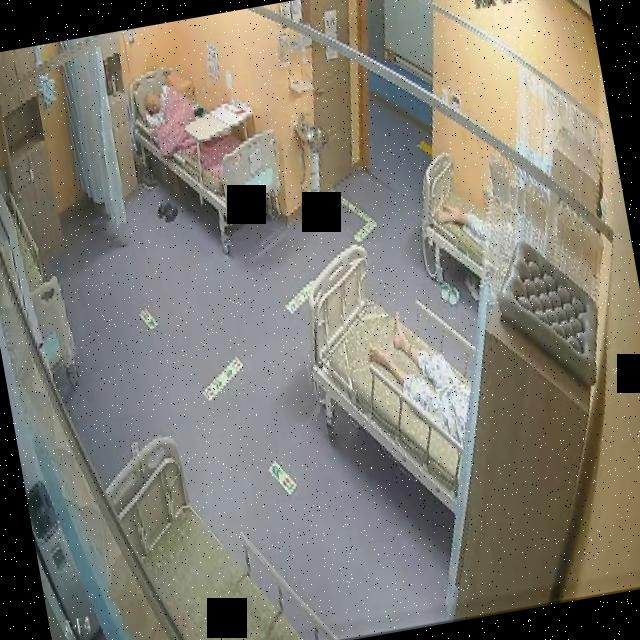bed: (290, 230, 492, 528), (97, 414, 339, 640), (118, 48, 290, 240), (412, 146, 496, 286)
lie: (362, 297, 479, 454)
patient: (362, 295, 480, 451), (138, 80, 180, 128)
